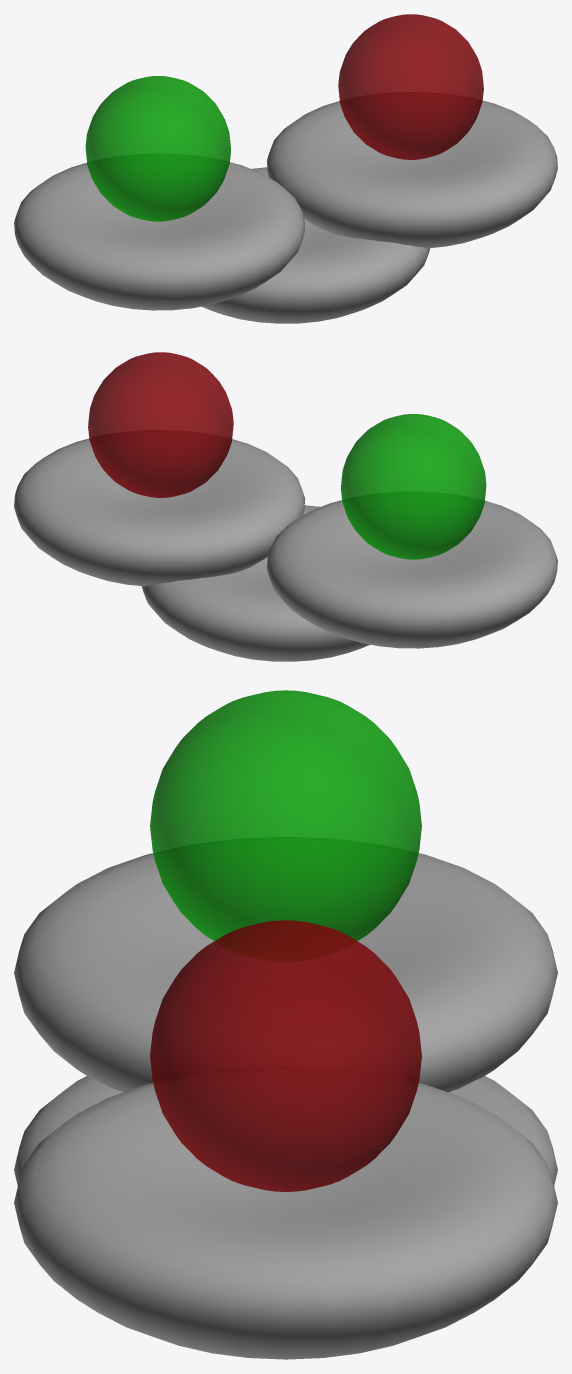
File: locking_mechanism.glb
3 renders of one model, top to bottom at view 1: azimuth 30°, elevation 25°; view 2: azimuth 150°, elevation 25°; view 3: azimuth 270°, elevation 25°, orthographic. The views are drawn at different scales.
Parts seen in each view (by area): view 1: Locking_Mechanism; view 2: Locking_Mechanism; view 3: Locking_Mechanism.
Part boxes in pixels (x1,y1,x2,y2): Locking_Mechanism: [14, 14, 557, 323]; Locking_Mechanism: [14, 352, 557, 661]; Locking_Mechanism: [14, 690, 557, 1359].
Size of the model in its own units: 12 by 5.73 by 6.
